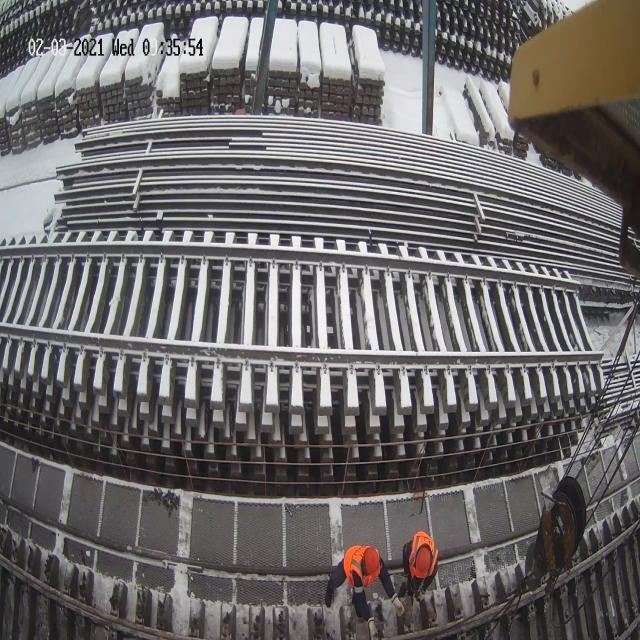Helmet: (412, 544, 436, 583), (362, 546, 380, 587)
Person: (324, 544, 405, 639), (399, 530, 438, 603)
